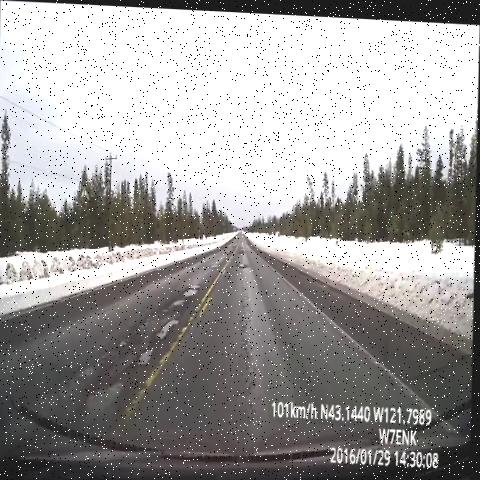pothole: (78, 372, 129, 429), (154, 310, 184, 343), (131, 341, 155, 369), (232, 256, 251, 272), (183, 280, 203, 294), (171, 292, 190, 306), (236, 237, 250, 255), (223, 235, 236, 252), (206, 261, 224, 272)
